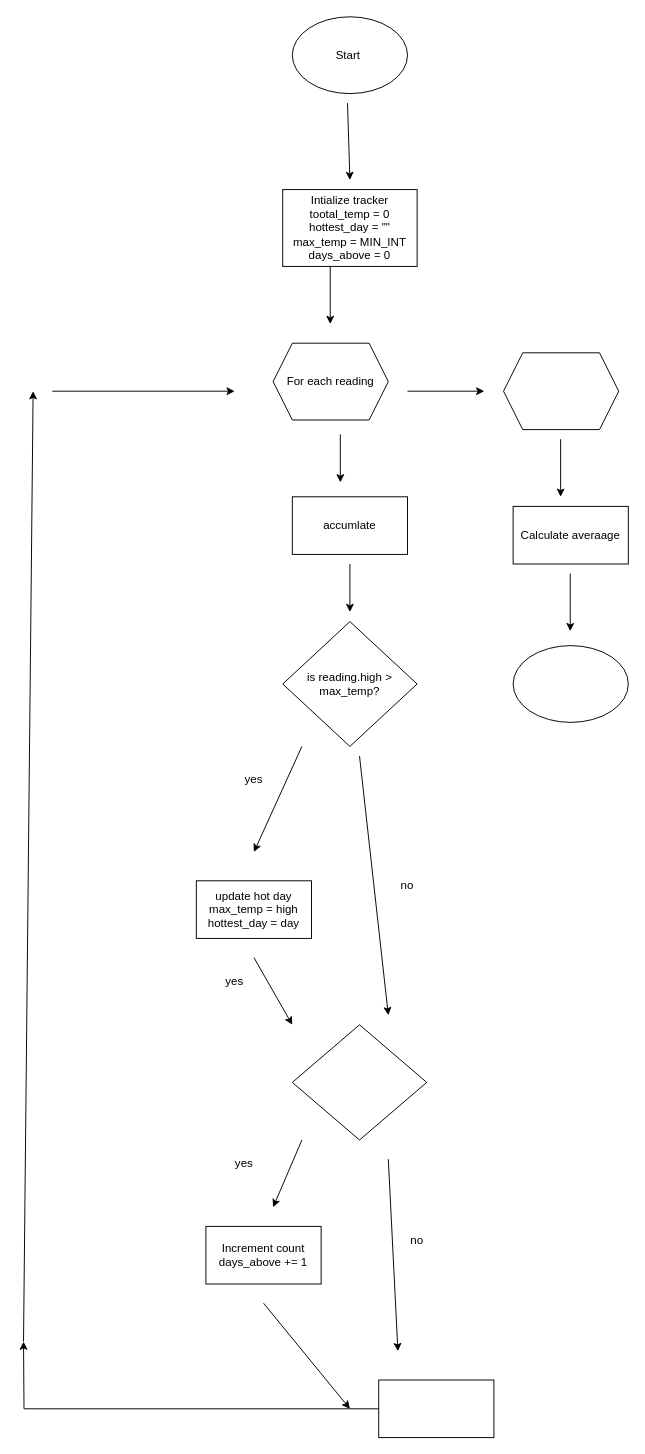
This 645x1454 diagram has some shape labels left out. The centre of each missing label's shape, as x and y in pixels:
end: (570,683)
is reading.high > threshold?: (359,1082)
loop done: (561,391)
next loop: (436,1408)
